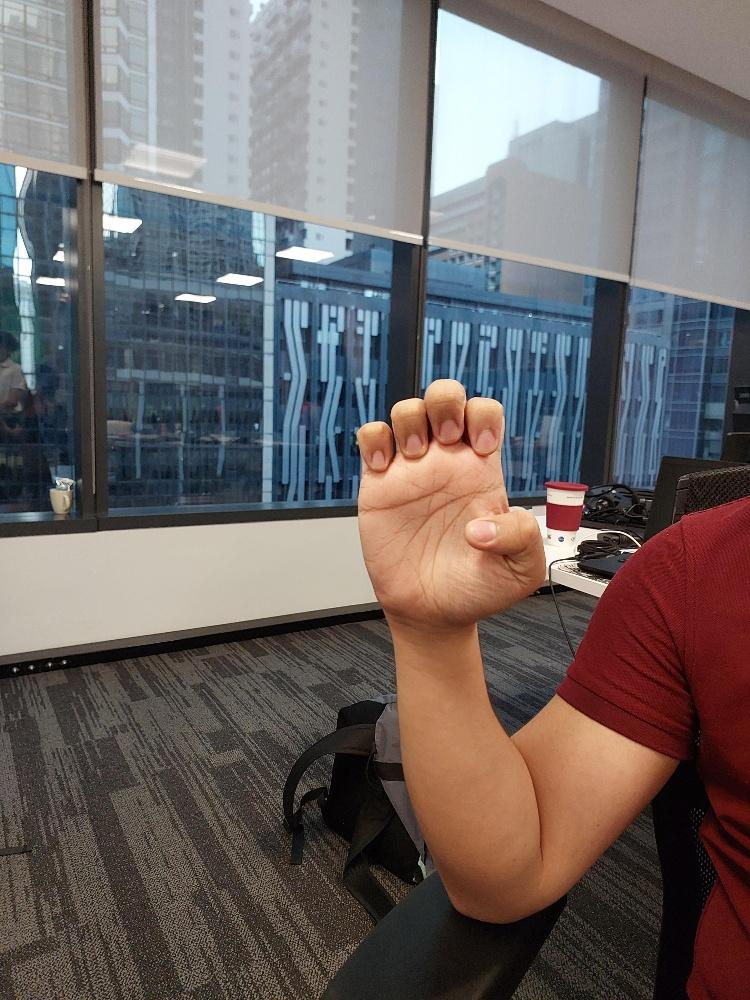e: (353, 374, 548, 634)
